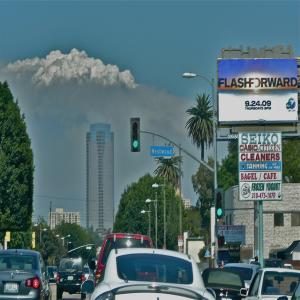Vehicle-registration-plate: (5, 283, 19, 294), (69, 277, 75, 281)
